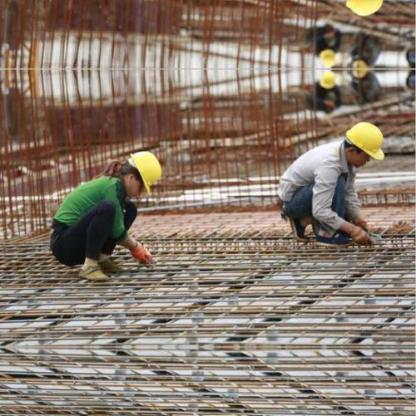helmet: (340, 119, 387, 161), (129, 148, 163, 201), (316, 72, 337, 90)
